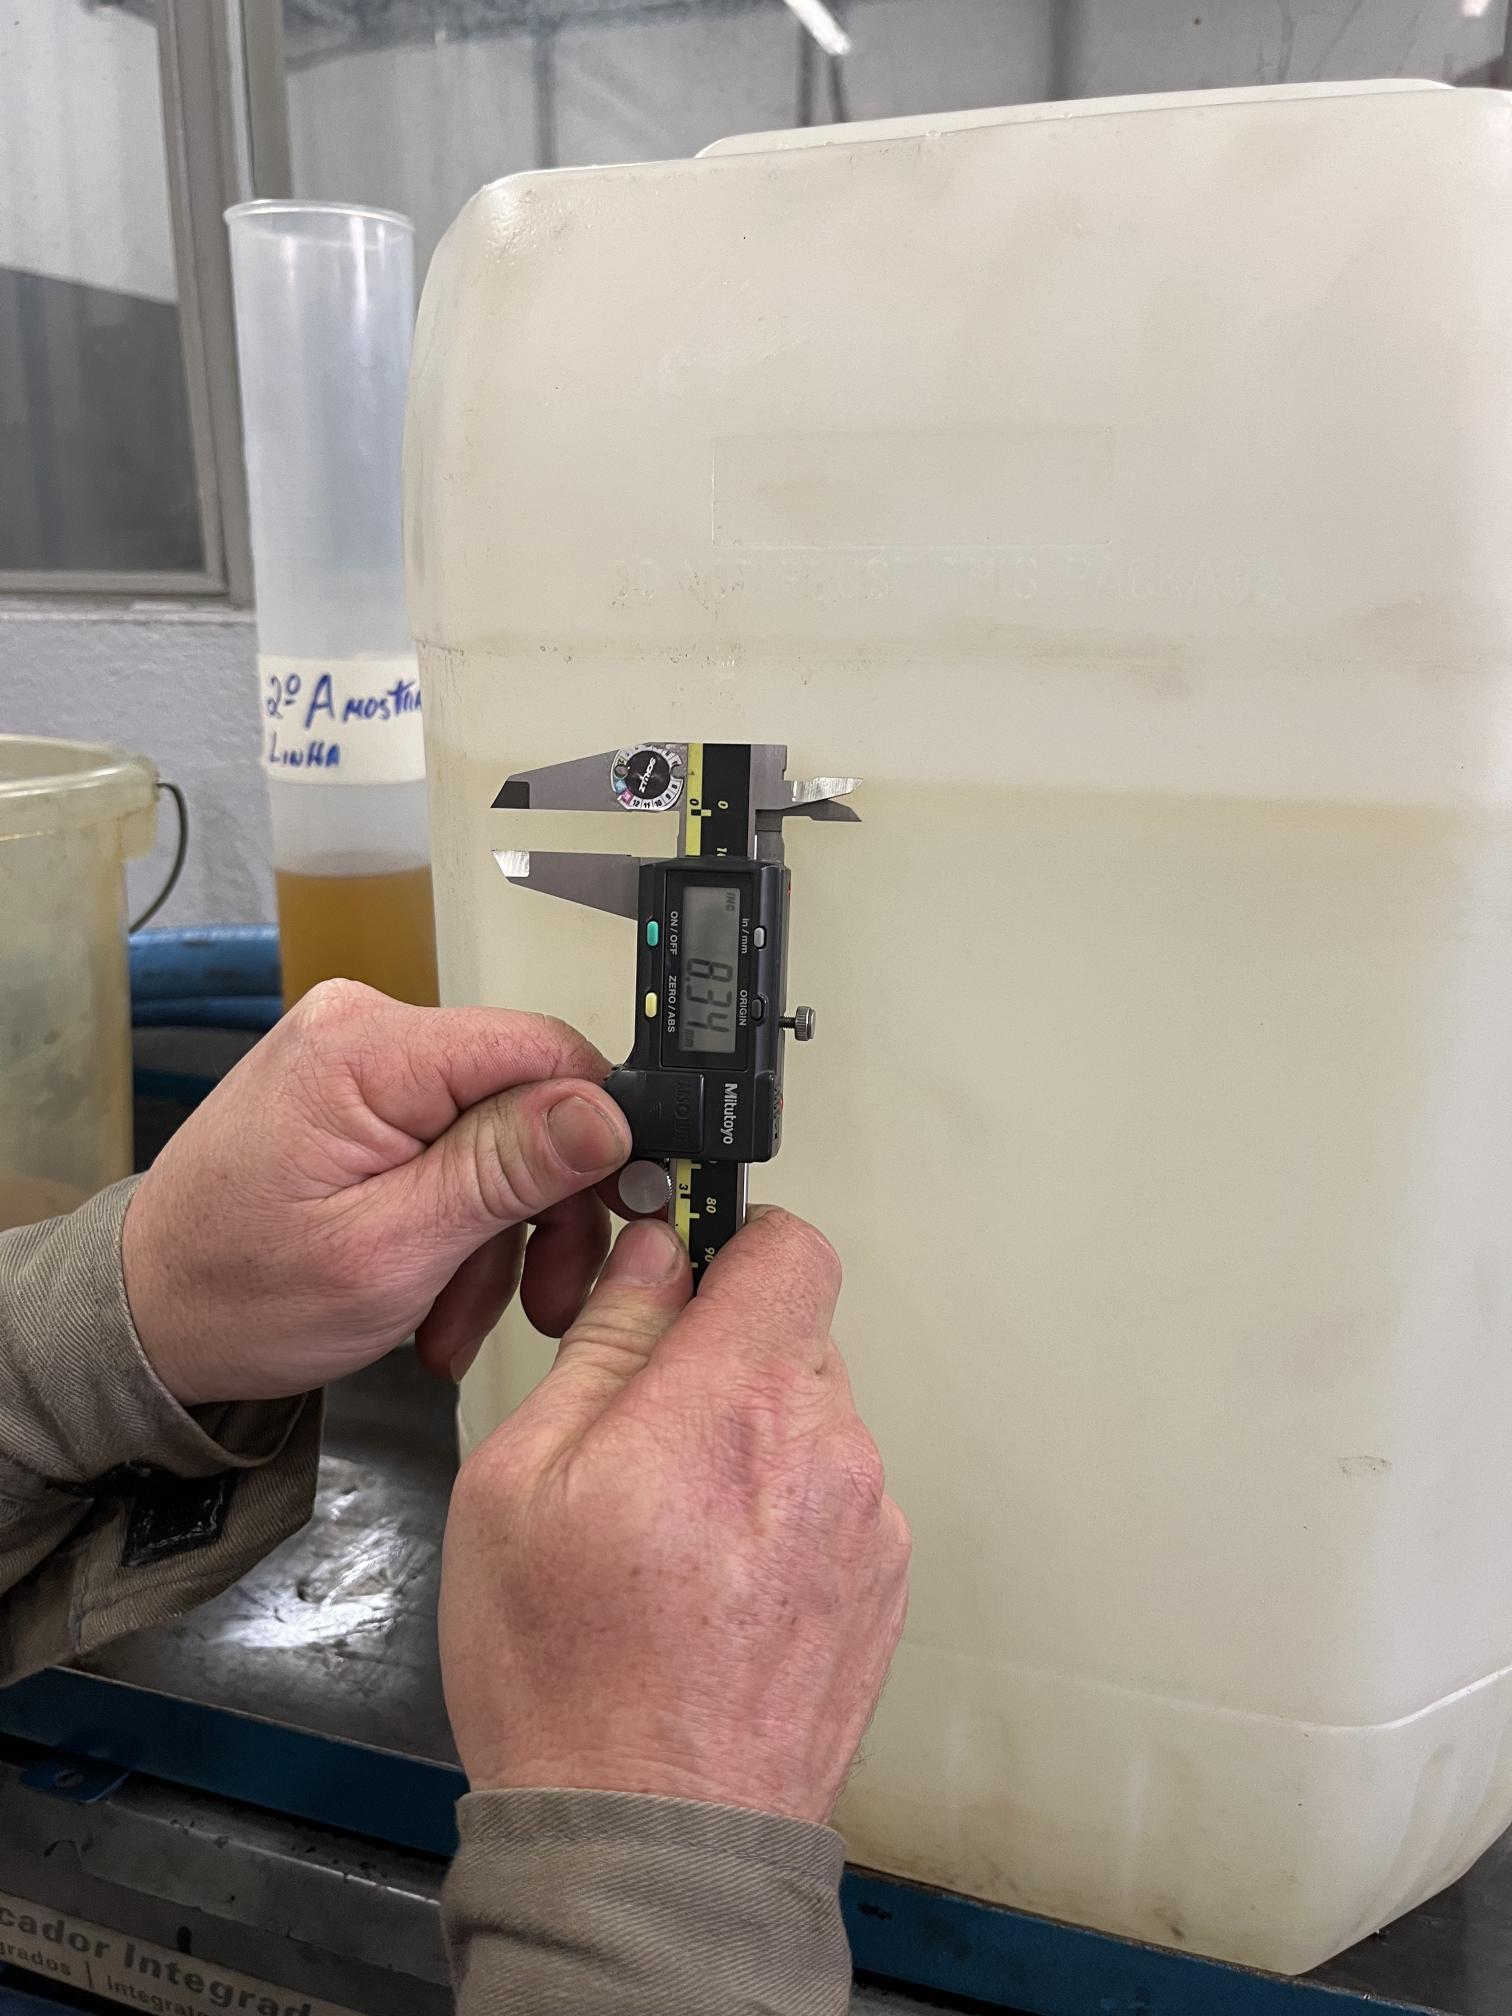Galao: (365, 90, 1485, 1979)
